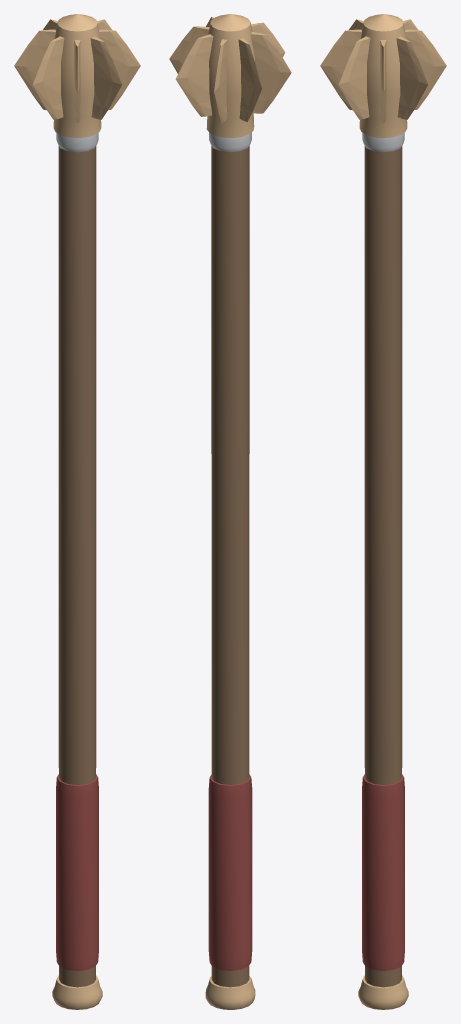
Rendered from asset.glb.
3 views of the same model, side by side, from view 1: azimuth 90°, elevation 25°; view 2: azimuth 210°, elevation 25°; view 3: azimuth 270°, elevation 25° (orthographic).
Visible parts, largest first — view 1: haft, grip, flanges, head, butt_cap, collar; view 2: haft, grip, flanges, head, butt_cap, collar; view 3: haft, grip, flanges, head, butt_cap, collar.
Part boxes in pixels (left/top/right/bottom): haft: left=58, top=146, right=96, bottom=987; grip: left=56, top=774, right=98, bottom=970; flanges: left=14, top=19, right=140, bottom=123; head: left=53, top=14, right=101, bottom=137; butt_cap: left=52, top=975, right=102, bottom=1009; collar: left=56, top=133, right=98, bottom=152; haft: left=211, top=145, right=249, bottom=987; grip: left=208, top=774, right=252, bottom=970; flanges: left=169, top=15, right=291, bottom=123; head: left=206, top=14, right=254, bottom=137; butt_cap: left=205, top=976, right=255, bottom=1009; collar: left=209, top=132, right=251, bottom=152; haft: left=364, top=146, right=402, bottom=987; grip: left=362, top=774, right=404, bottom=970; flanges: left=320, top=19, right=446, bottom=123; head: left=359, top=14, right=407, bottom=137; butt_cap: left=358, top=975, right=408, bottom=1009; collar: left=362, top=133, right=404, bottom=152.
Bounding box in the file's own units: 0.0808 × 0.6936 × 0.0808.
